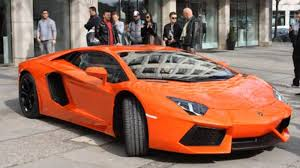Lamborghini: (21, 46, 285, 152)
